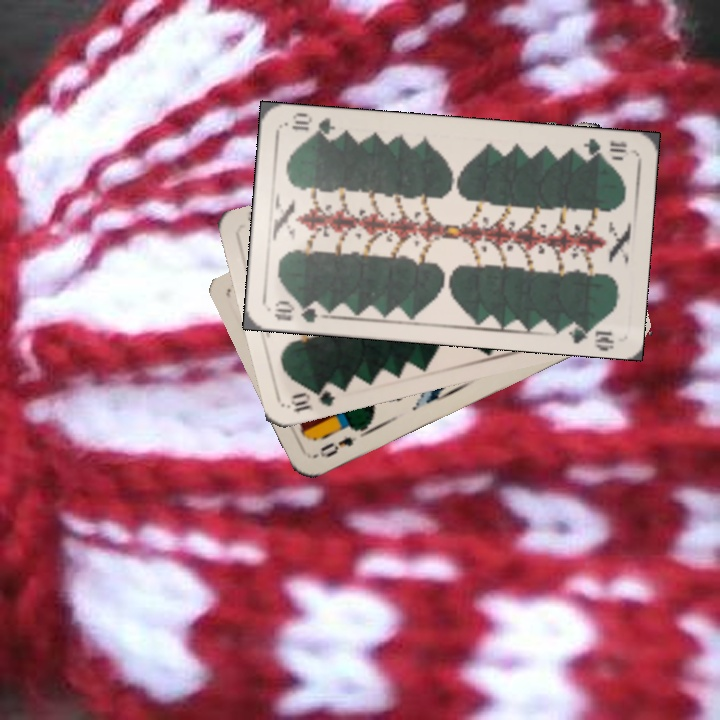EO: (310, 432, 359, 461)
G10: (270, 296, 329, 325), (572, 134, 630, 163), (287, 383, 338, 415)
